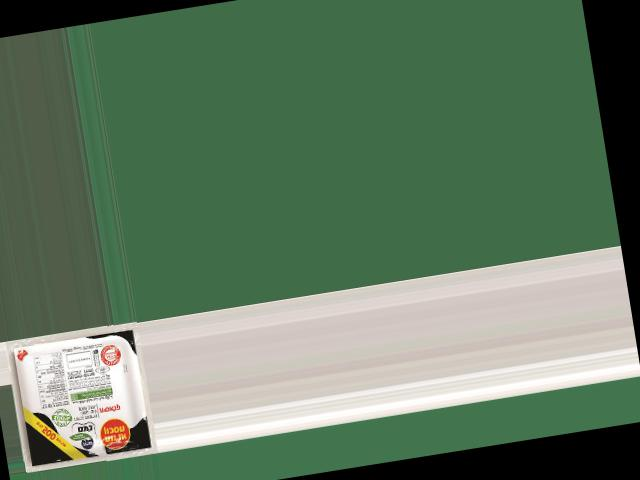cheese: (7, 332, 152, 464)
